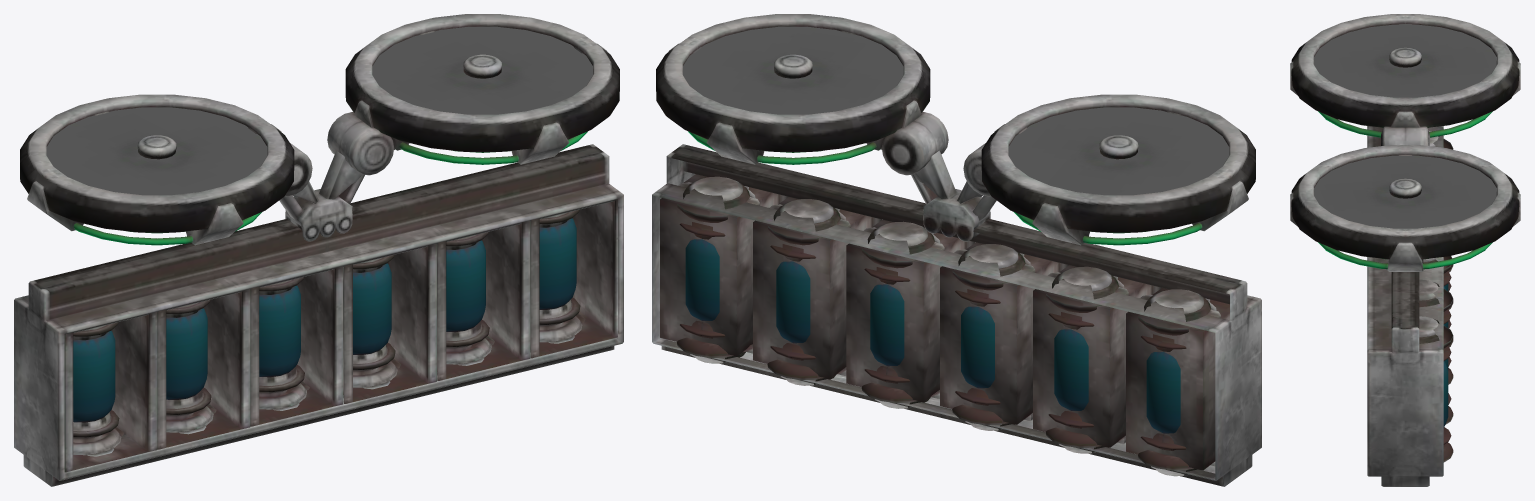
Rendered from battery.glb.
The picture shows the model from 3 angles, left to right: view 1: azimuth 30°, elevation 25°; view 2: azimuth 150°, elevation 25°; view 3: azimuth 270°, elevation 25°; orthographic projection. The views are drawn at different scales.
Parts seen in each view (by area): view 1: Module-Energy, Right-PropellerBase, Left-PropellerBase, Left-Propeller, Right-Propeller, Slot-3, Slot-4, Slot-1, Slot-2, Slot-0, Slot-5, PropellerTrain (+12 smaller); view 2: Module-Energy, Right-PropellerBase, Left-PropellerBase, Left-Propeller, Right-Propeller, Slot-4, Slot-3, Slot-1, Slot-5, Slot-2, Slot-0, PropellerTrain (+12 smaller); view 3: Module-Energy, Left-PropellerBase, Right-PropellerBase, Right-Propeller, Left-Propeller, Case-5, Case-4, Cell-5, Case-3.
Boxes of the visible parts, <box> form: Module-Energy: <box>14,144,623,486</box>; Right-PropellerBase: <box>327,14,619,175</box>; Left-PropellerBase: <box>20,94,312,245</box>; Left-Propeller: <box>46,107,267,195</box>; Right-Propeller: <box>372,26,592,114</box>; Slot-3: <box>343,243,436,403</box>; Slot-4: <box>437,220,530,380</box>; Slot-1: <box>157,289,250,449</box>; Slot-2: <box>250,266,343,426</box>; Slot-0: <box>64,312,157,472</box>; Slot-5: <box>530,199,617,358</box>; PropellerTrain: <box>279,151,364,241</box>; Module-Energy: <box>652,144,1261,486</box>; Right-PropellerBase: <box>656,14,948,175</box>; Left-PropellerBase: <box>963,94,1255,245</box>; Left-Propeller: <box>1008,107,1229,195</box>; Right-Propeller: <box>683,26,903,114</box>; Slot-4: <box>753,197,881,378</box>; Slot-3: <box>846,219,975,402</box>; Slot-1: <box>1033,265,1161,447</box>; Slot-5: <box>660,174,788,356</box>; Slot-2: <box>940,242,1068,424</box>; Slot-0: <box>1126,288,1229,470</box>; PropellerTrain: <box>911,150,996,241</box>; Module-Energy: <box>1367,126,1443,486</box>; Left-PropellerBase: <box>1290,14,1520,145</box>; Right-PropellerBase: <box>1290,145,1520,271</box>; Right-Propeller: <box>1314,155,1496,228</box>; Left-Propeller: <box>1314,24,1496,97</box>; Case-5: <box>1419,316,1453,462</box>; Case-4: <box>1419,279,1453,424</box>; Cell-5: <box>1443,361,1448,427</box>; Case-3: <box>1423,256,1453,384</box>.
Bounding box in the file's own units: 3.3 × 1.71 × 1.4.
3 materials, 3 textured.
